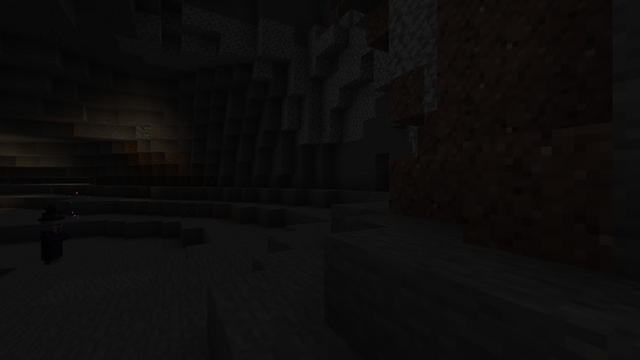sorcieres: (39, 217, 63, 266)
